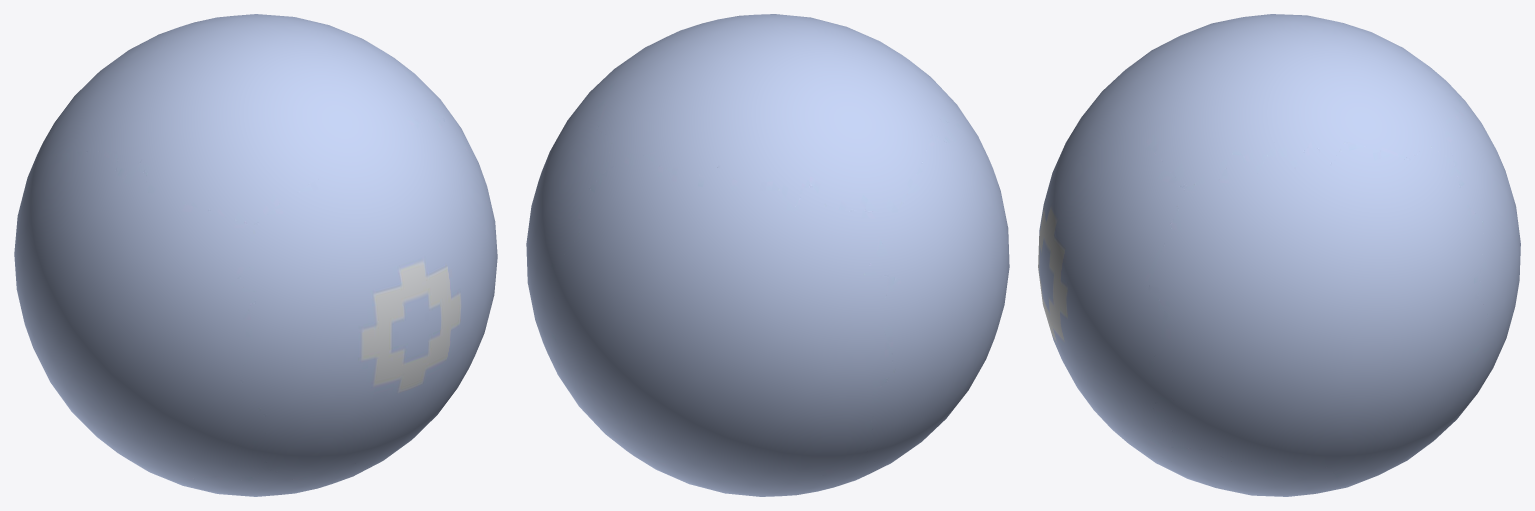
Rendered from Sphere_footer_baked.glb.
The picture shows the model from 3 angles, left to right: view 1: azimuth 30°, elevation 25°; view 2: azimuth 150°, elevation 25°; view 3: azimuth 270°, elevation 25°; orthographic projection.
Parts seen in each view (by area): view 1: Test; view 2: Test; view 3: Test.
Part boxes in pixels (left/top/right/bottom): Test: left=14, top=14, right=497, bottom=496; Test: left=526, top=14, right=1009, bottom=496; Test: left=1038, top=14, right=1520, bottom=496.
Size of the model in its own units: 0.1598 by 0.1599 by 0.1598.
1 material, 1 textured.
